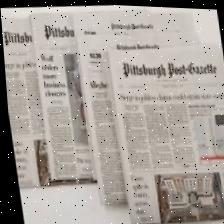paper: (105, 43, 224, 224), (30, 8, 89, 182), (1, 12, 50, 189), (75, 31, 124, 202)
